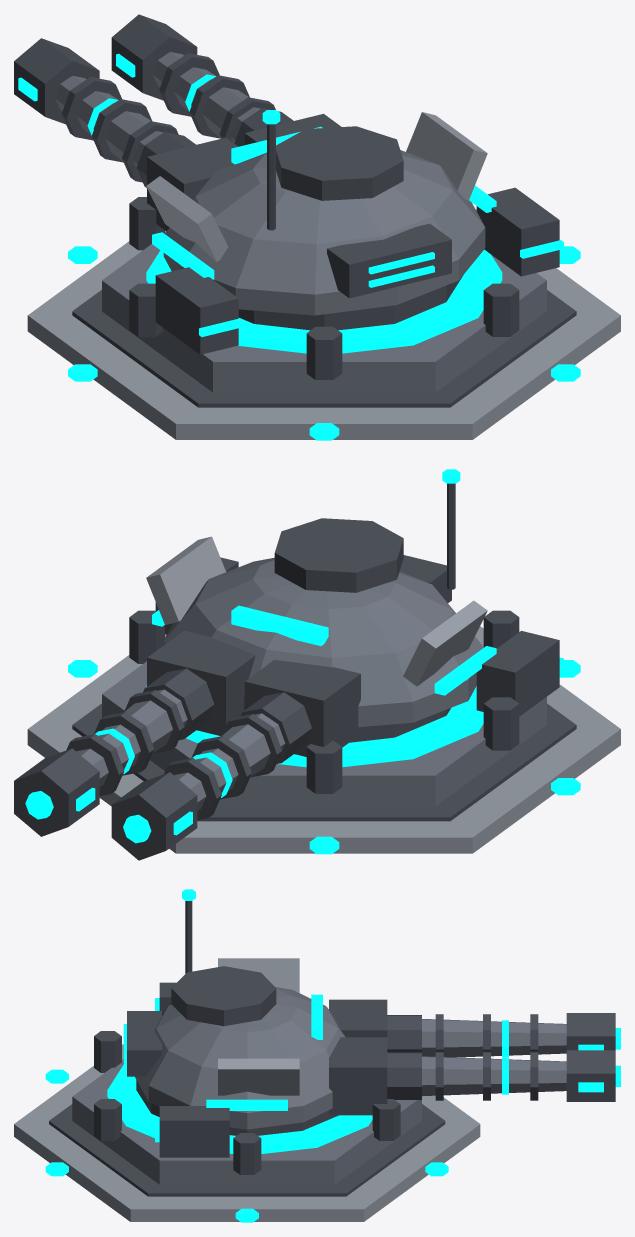
File: turret_lvl4.glb
The picture shows the model from 3 angles, top to bottom: view 1: azimuth 30°, elevation 25°; view 2: azimuth 150°, elevation 25°; view 3: azimuth 270°, elevation 25°; orthographic projection. The views are drawn at different scales.
Parts seen in each view (by area): view 1: Dome_05, BaseTier_50, Base_01, BaseSkirt_02, Cupola_49, Neon_BaseRing_03, BackVent_32, SaddleBag_45, SaddleBag_47, MuzzleBrake_25, MuzzleBrake_14, Pivot_04 (+21 smaller); view 2: Dome_05, BaseTier_50, Base_01, BaseSkirt_02, Cupola_49, BarrelMount_07, BarrelMount_18, SaddleBag_45, MuzzleBrake_14, MuzzleBrake_25, Neon_BaseRing_03, ArmorPlate_36 (+22 smaller); view 3: BaseTier_50, Dome_05, Base_01, BaseSkirt_02, Cupola_49, BarrelMount_18, BarrelTube_20, BarrelTube_09, Neon_BaseRing_03, SaddleBag_47, ArmorPlate_36, MuzzleBrake_25 (+14 smaller).
Part boxes in pixels (left/top/right/bottom): Dome_05: left=163, top=150, right=485, bottom=315; BaseTier_50: left=27, top=209, right=620, bottom=439; Base_01: left=102, top=244, right=546, bottom=392; BaseSkirt_02: left=72, top=290, right=576, bottom=407; Cupola_49: left=276, top=126, right=403, bottom=200; Neon_BaseRing_03: left=146, top=249, right=502, bottom=353; BackVent_32: left=327, top=223, right=451, bottom=298; SaddleBag_45: left=155, top=267, right=238, bottom=354; SaddleBag_47: left=476, top=187, right=559, bottom=276; MuzzleBrake_25: left=111, top=14, right=197, bottom=100; MuzzleBrake_14: left=14, top=38, right=99, bottom=124; Pivot_04: left=238, top=275, right=463, bottom=330; Dome_05: left=163, top=557, right=483, bottom=727; BaseTier_50: left=27, top=626, right=620, bottom=853; Base_01: left=102, top=661, right=546, bottom=806; BaseSkirt_02: left=72, top=703, right=576, bottom=821; Cupola_49: left=274, top=518, right=403, bottom=592; BarrelMount_07: left=244, top=660, right=360, bottom=756; BarrelMount_18: left=147, top=630, right=255, bottom=735; SaddleBag_45: left=476, top=631, right=559, bottom=716; MuzzleBrake_14: left=111, top=772, right=197, bottom=860; MuzzleBrake_25: left=14, top=748, right=99, bottom=836; Neon_BaseRing_03: left=146, top=685, right=483, bottom=767; ArmorPlate_36: left=146, top=536, right=225, bottom=624; BaseTier_50: left=14, top=1044, right=480, bottom=1221; Dome_05: left=135, top=987, right=345, bottom=1129; Base_01: left=72, top=1059, right=421, bottom=1184; BaseSkirt_02: left=49, top=1104, right=445, bottom=1196; Cupola_49: left=171, top=966, right=276, bottom=1026; BarrelMount_18: left=329, top=1037, right=387, bottom=1115; BarrelTube_20: left=422, top=1056, right=566, bottom=1096; BarrelTube_09: left=422, top=1019, right=566, bottom=1057; Neon_BaseRing_03: left=107, top=1063, right=372, bottom=1153; SaddleBag_47: left=159, top=1106, right=229, bottom=1157; ArmorPlate_36: left=218, top=1058, right=299, bottom=1095; MuzzleBrake_25: left=566, top=1050, right=615, bottom=1101.
Bounding box in the file's own units: 4.92 × 2.49 × 6.51.
